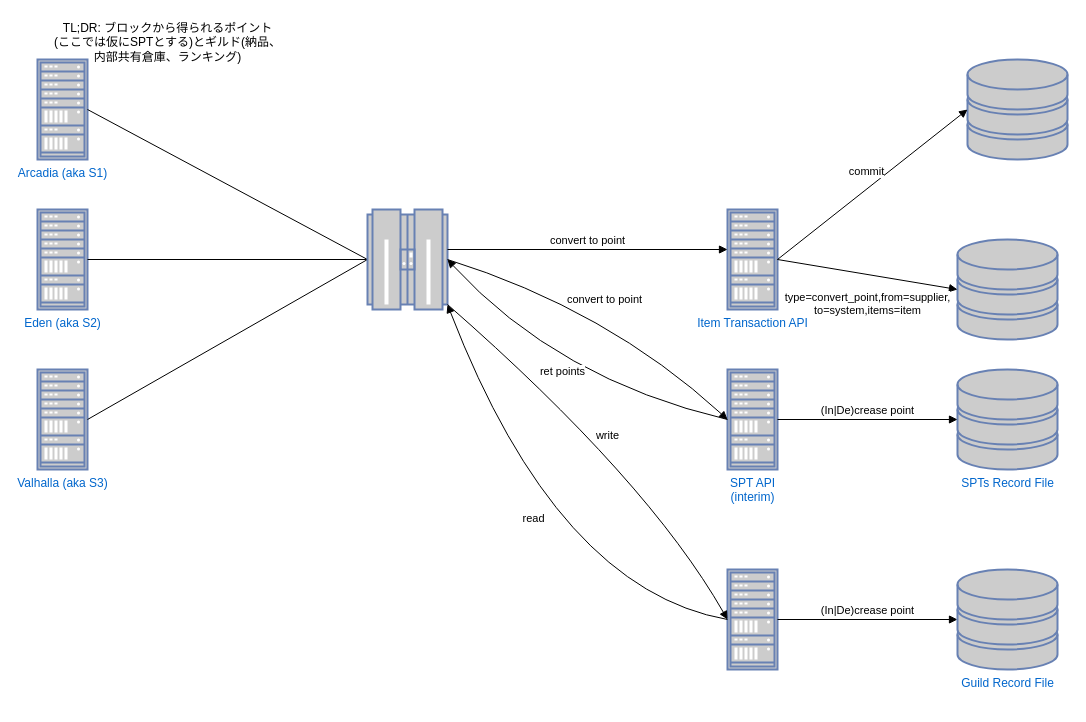
The diagram is 1086 pixels wide and 722 high, and some of its shapes have lost their labels. Here are the shapes that lost their labels. From the top down, the box of each, then its label:
(966, 58, 1068, 160): Minestack
(366, 208, 448, 310): SeichiAssist
(956, 238, 1058, 340): Transaction History
(726, 568, 778, 670): Guild API (interim)
